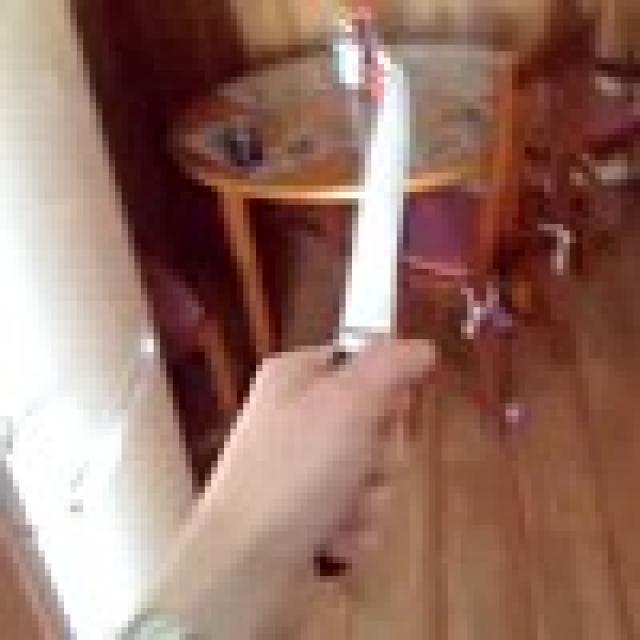Knife: (301, 51, 448, 563)
